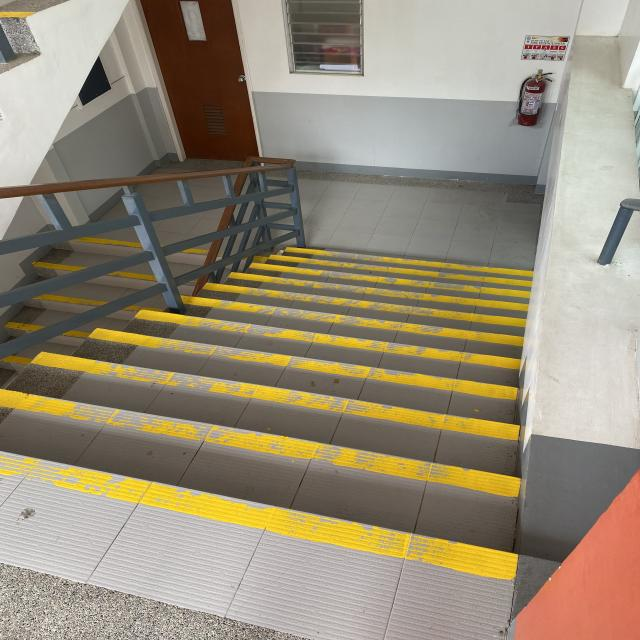stair: (0, 248, 531, 639)
